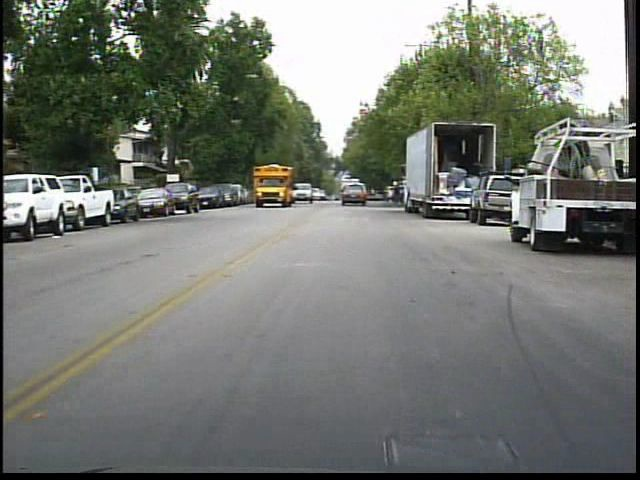person: (388, 178, 406, 211)
